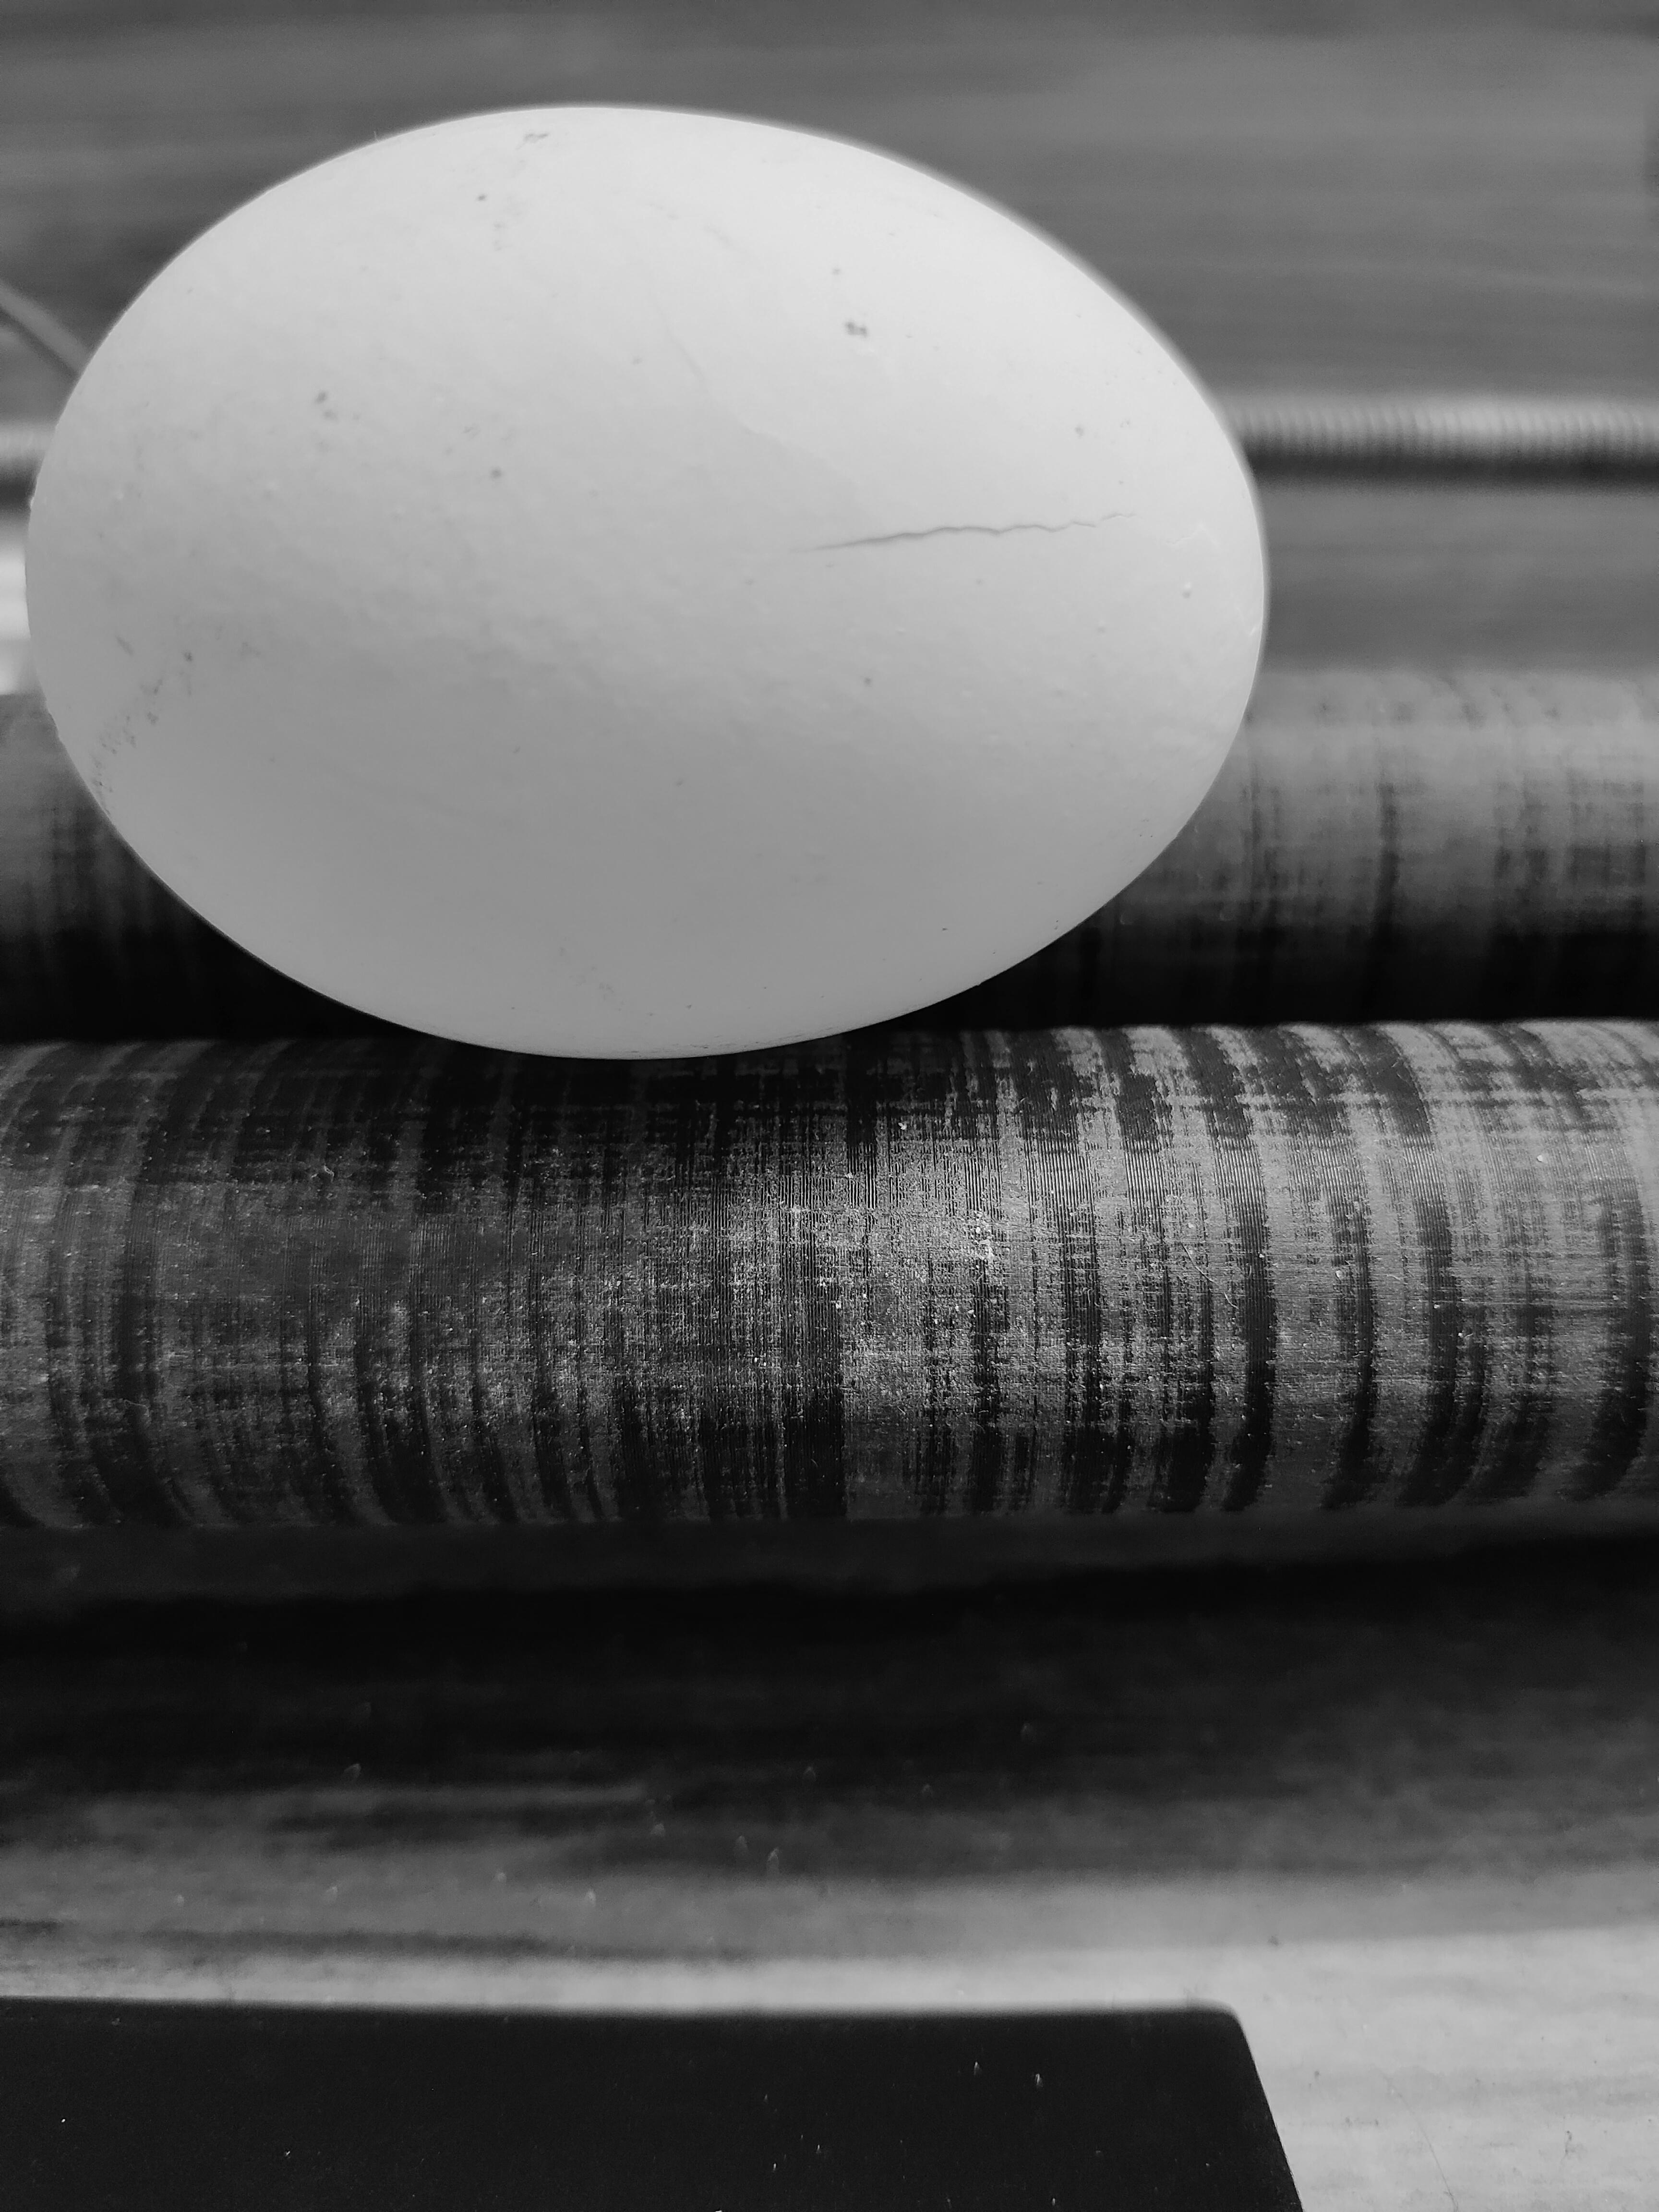telur: (0, 73, 1307, 1087)
